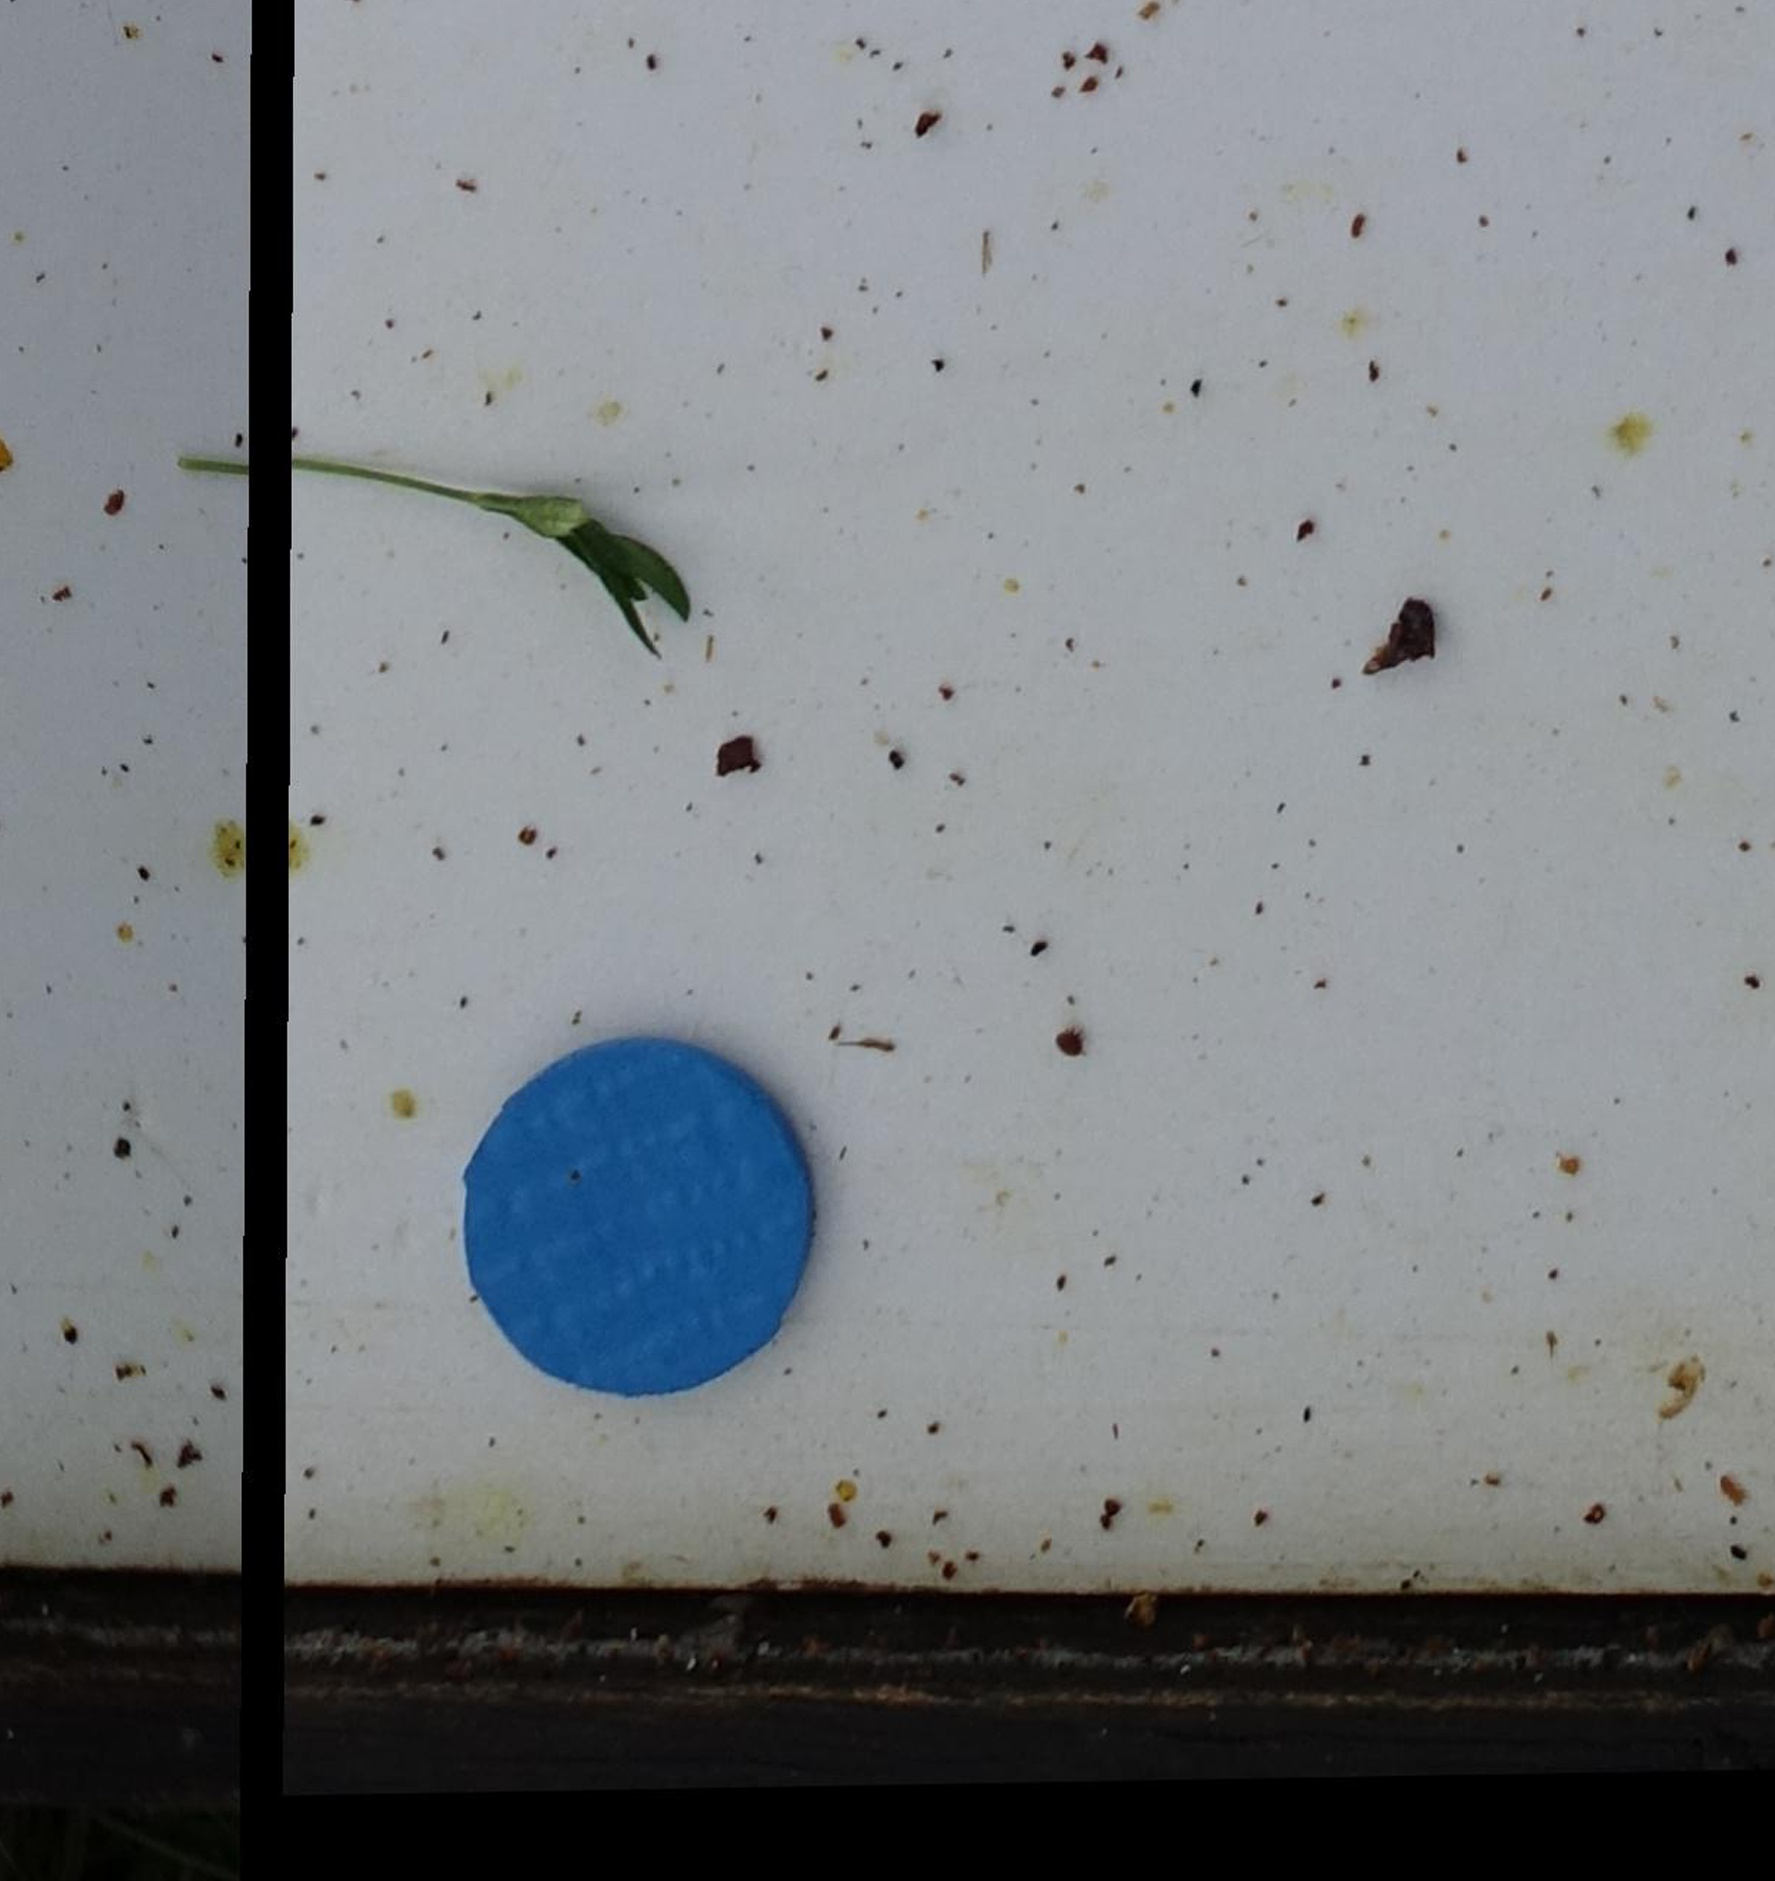Varroa: (1053, 1026, 1079, 1062)
